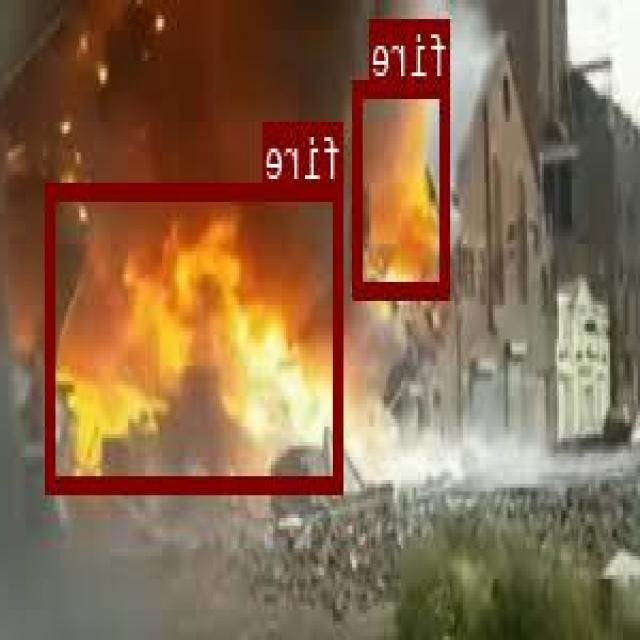fire: (47, 180, 346, 488), (356, 77, 452, 297)
